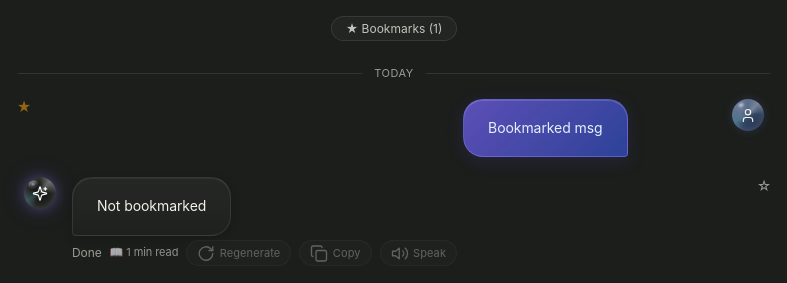
Test: MessageList — bookmarks filter › clicking filter shows only bookmarked messages
The image size is (787, 283).
Expected: the text "Bookmarked msg" is shown, [488,116,603,140]
Expected: the text "Not bookmarked" is shown, [97,194,206,219]
# Click filter
Click the button with class "bookmarks-filter-btn": click(394, 28) [331,16,457,41]
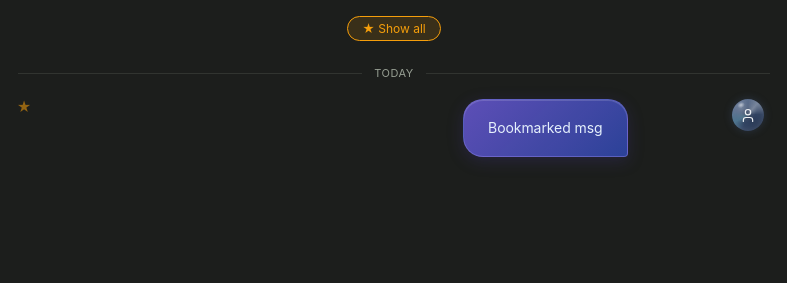
Expected: the text "Bookmarked msg" is shown, [488,116,603,140]
Now the text "Not bookmarked" is gone
Now the button "★ Show all" is shown, box [347,16,441,41]
